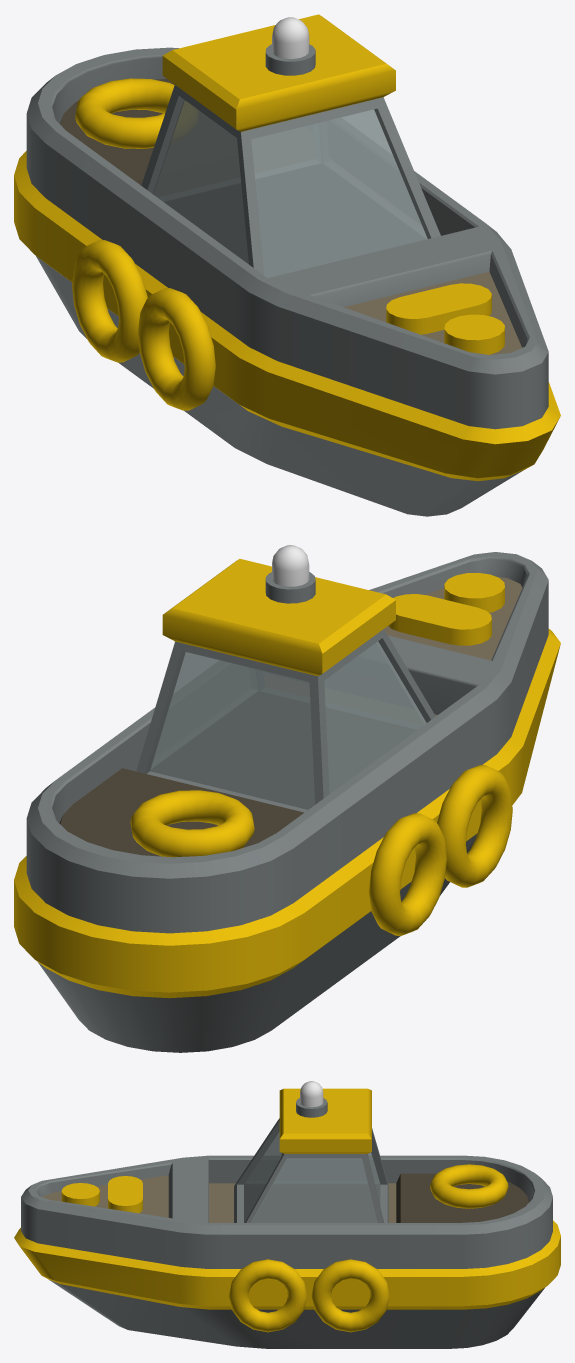
File: boat_separated.fbx
The picture shows the model from 3 angles, top to bottom: view 1: azimuth 30°, elevation 25°; view 2: azimuth 150°, elevation 25°; view 3: azimuth 270°, elevation 25°; orthographic projection. The views are drawn at different scales.
Visible parts, largest first — view 1: boat_body_main, boat_body_color, boat_floor, boat_360light_bulb, boat_360light_socket; view 2: boat_body_main, boat_body_color, boat_floor, boat_360light_bulb, boat_360light_socket; view 3: boat_body_main, boat_body_color, boat_floor, boat_360light_bulb, boat_360light_socket.
Boxes of the visible parts, <box> form: boat_body_main: <box>26,47,548,516</box>; boat_body_color: <box>14,14,560,481</box>; boat_floor: <box>164,163,425,277</box>; boat_360light_bulb: <box>272,17,309,58</box>; boat_360light_socket: <box>265,44,315,75</box>; boat_body_main: <box>26,552,548,1052</box>; boat_body_color: <box>14,559,560,998</box>; boat_floor: <box>150,691,416,809</box>; boat_360light_bulb: <box>272,545,309,586</box>; boat_360light_socket: <box>265,572,315,603</box>; boat_body_main: <box>21,1118,552,1348</box>; boat_body_color: <box>14,1088,560,1332</box>; boat_floor: <box>244,1186,379,1222</box>; boat_360light_bulb: <box>300,1081,323,1107</box>; boat_360light_socket: <box>296,1098,327,1117</box>.
Size of the model in its own units: 1.3 by 1.47 by 3.05.
